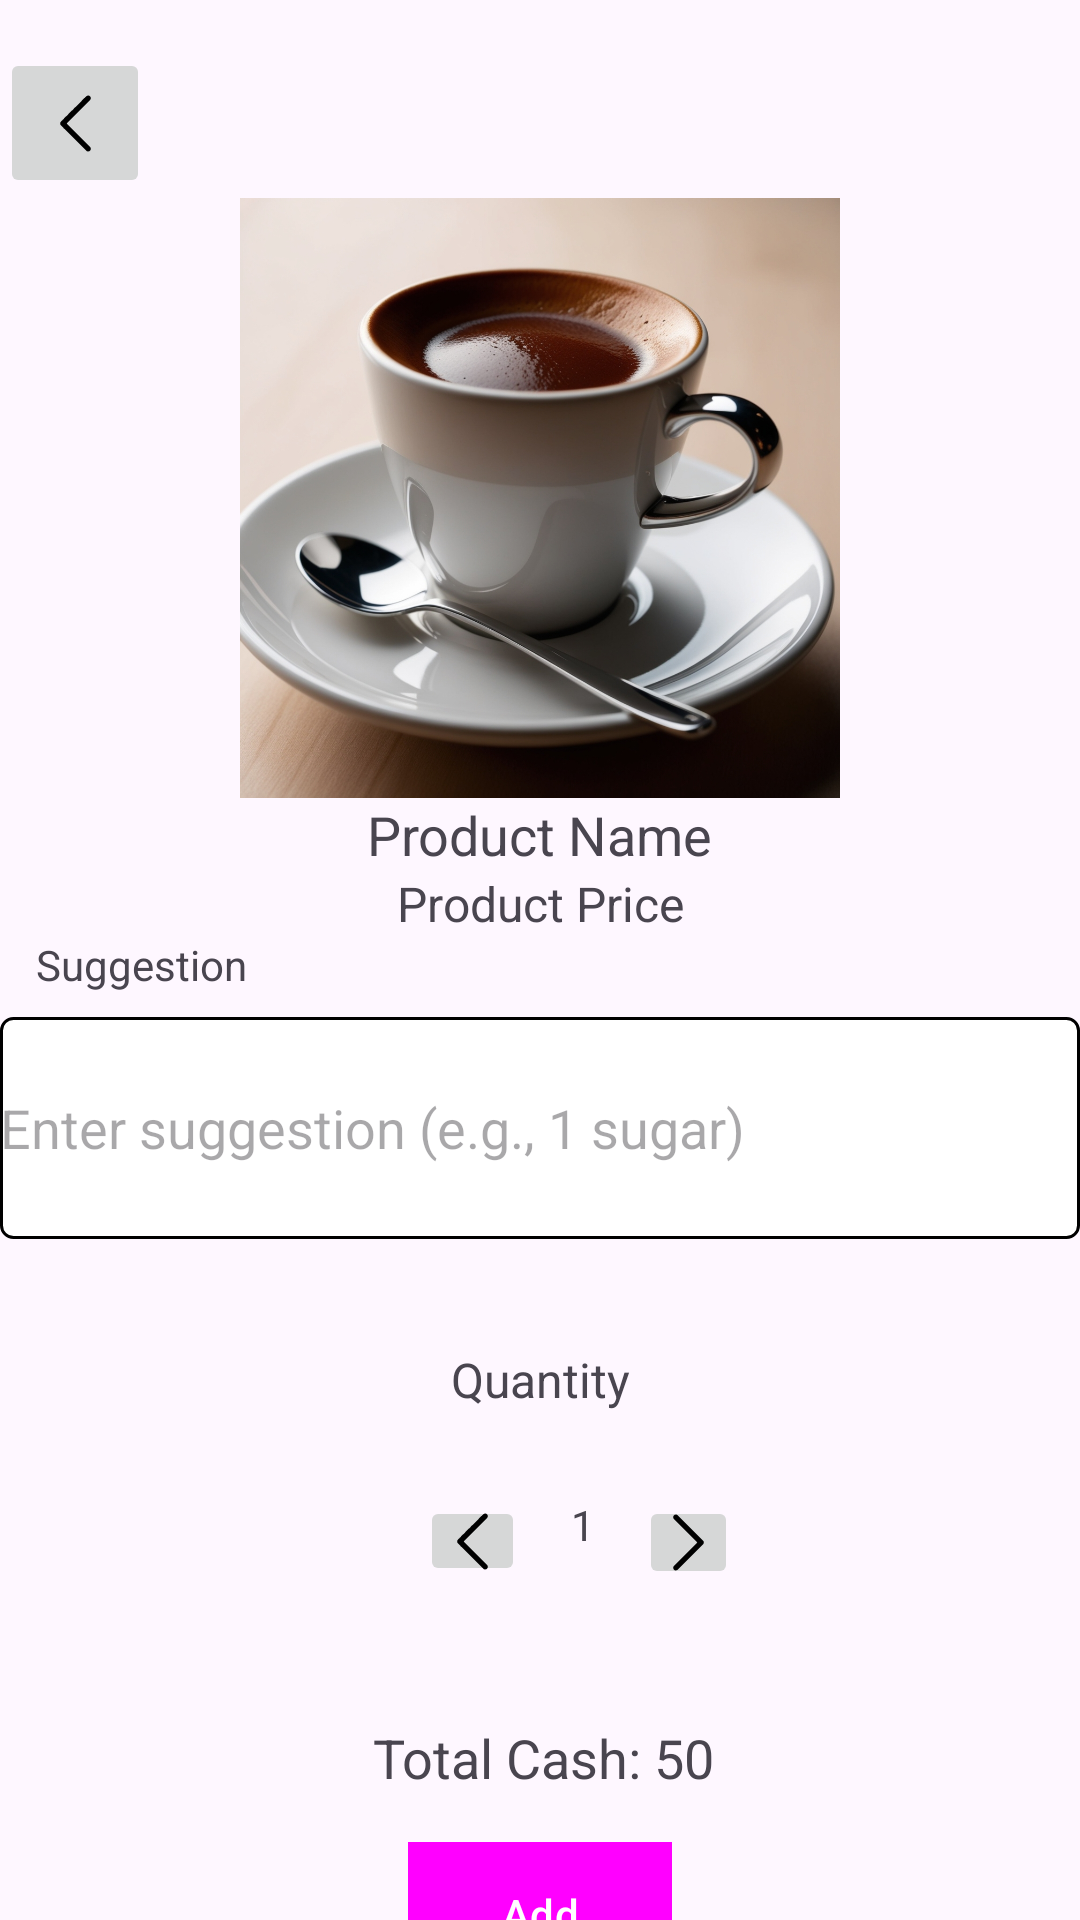

Where icons sit on this 1080*1920 app screen, as (x1, y1, x2, y2):
Back Button: (12, 66, 138, 180)
